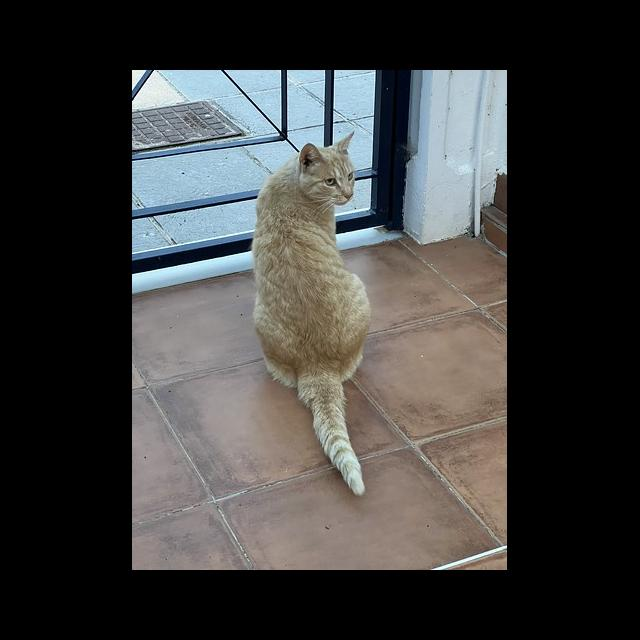animals: (253, 131, 373, 494)
